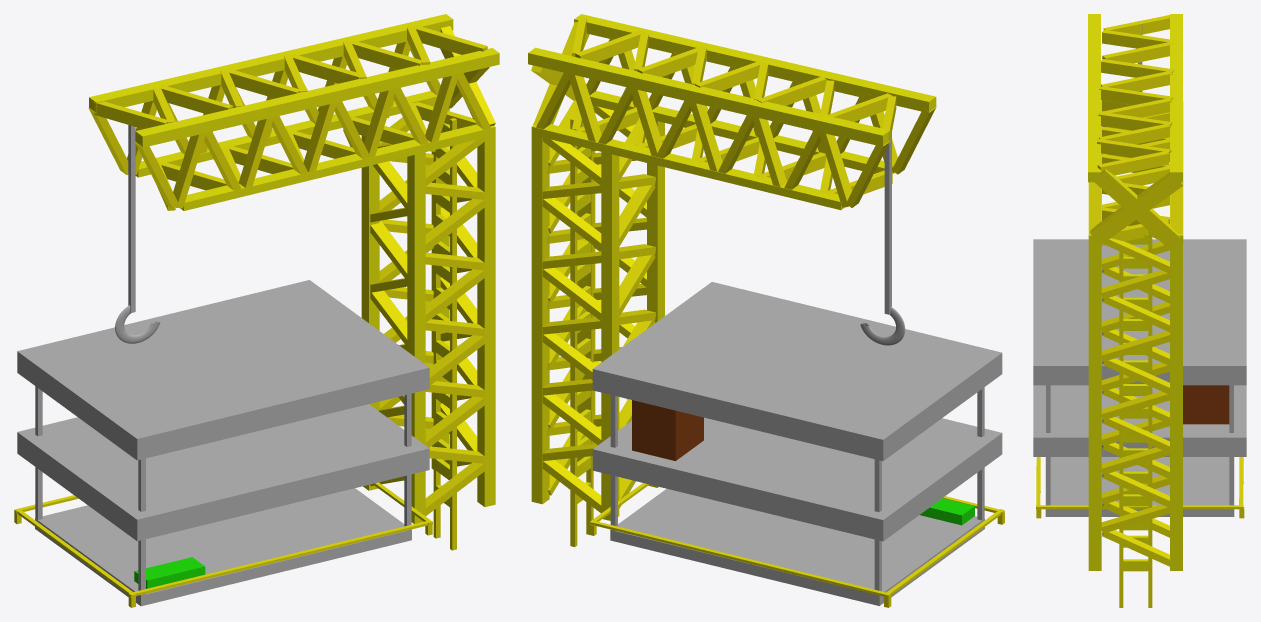
The model's file is строительство.fbx.
The picture shows the model from 3 angles, left to right: view 1: azimuth 30°, elevation 25°; view 2: azimuth 150°, elevation 25°; view 3: azimuth 270°, elevation 25°; orthographic projection. The views are drawn at different scales.
Visible parts, largest first — view 1: Cube.010, Cube.009, Cube.008, Cube.112, Cube.022, Cube.021, Cube.111, Cube.025, Cube.023, Cube.026, Cube.071, Cube.003 (+42 smaller); view 2: Cube.010, Cube.009, Cube.008, Cube.111, Cube.024, Cube.112, Cube.023, Cube.026, Cube.019, Cube.021, Cube.025, Cube.072 (+37 smaller); view 3: Cube.010, Cube.009, Cube.008, Cube.022, Cube.024, Cube.111, Cube.112, Cube.019, Cube.134, Cube.136, Cube.072, Cube.071 (+41 smaller).
Boxes of the visible parts, <box> form: Cube.010: <box>17,280,429,460</box>; Cube.009: <box>17,404,429,541</box>; Cube.008: <box>35,488,411,606</box>; Cube.112: <box>135,48,499,147</box>; Cube.022: <box>477,131,495,506</box>; Cube.021: <box>407,148,425,523</box>; Cube.111: <box>89,14,453,113</box>; Cube.025: <box>180,124,495,210</box>; Cube.023: <box>361,121,379,490</box>; Cube.026: <box>135,91,437,177</box>; Cube.071: <box>450,118,456,550</box>; Cube.003: <box>128,521,428,597</box>; Cube.010: <box>592,282,1002,460</box>; Cube.009: <box>592,417,1002,541</box>; Cube.008: <box>610,489,984,605</box>; Cube.111: <box>528,47,890,146</box>; Cube.024: <box>531,135,549,504</box>; Cube.112: <box>574,14,936,111</box>; Cube.023: <box>601,152,619,520</box>; Cube.026: <box>531,124,844,210</box>; Cube.019: <box>632,400,703,460</box>; Cube.021: <box>647,121,664,487</box>; Cube.025: <box>589,91,884,173</box>; Cube.072: <box>570,117,577,546</box>; Cube.010: <box>1033,239,1246,385</box>; Cube.009: <box>1033,385,1246,456</box>; Cube.008: <box>1045,457,1234,516</box>; Cube.022: <box>1088,239,1101,570</box>; Cube.024: <box>1170,239,1182,570</box>; Cube.111: <box>1170,14,1182,182</box>; Cube.112: <box>1088,14,1100,182</box>; Cube.019: <box>1183,385,1229,424</box>; Cube.134: <box>1090,172,1183,245</box>; Cube.136: <box>1095,169,1180,248</box>; Cube.072: <box>1148,231,1152,607</box>; Cube.071: <box>1119,251,1123,607</box>.
Bounding box in the file's own units: 16798 × 20466 × 8782.
